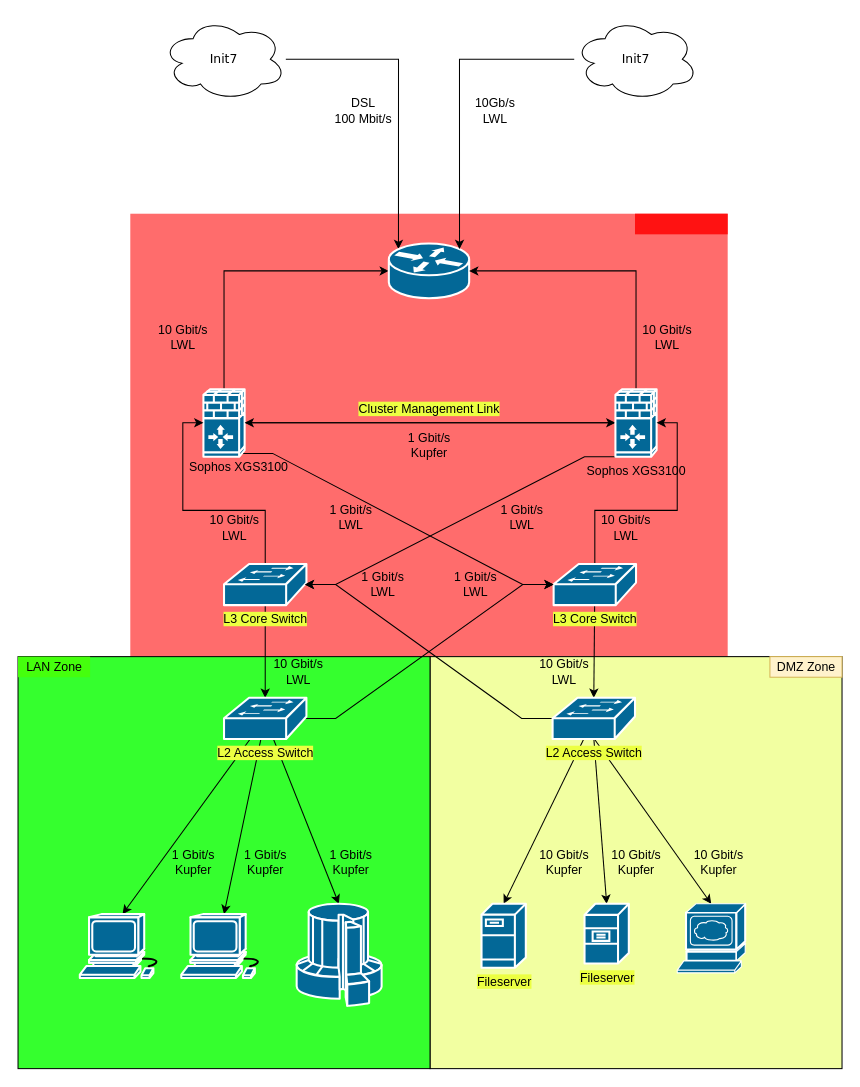
Some shapes in this 860 by 1087 pixel diagram are drawn without their labels. Each missing label, with the box of its shape:
Firewall Zone: (634, 213, 727, 234)
MikroTik Managed Router: (387, 242, 470, 299)
Supercomputer: (295, 902, 382, 1006)
Web Server: (676, 902, 746, 973)
